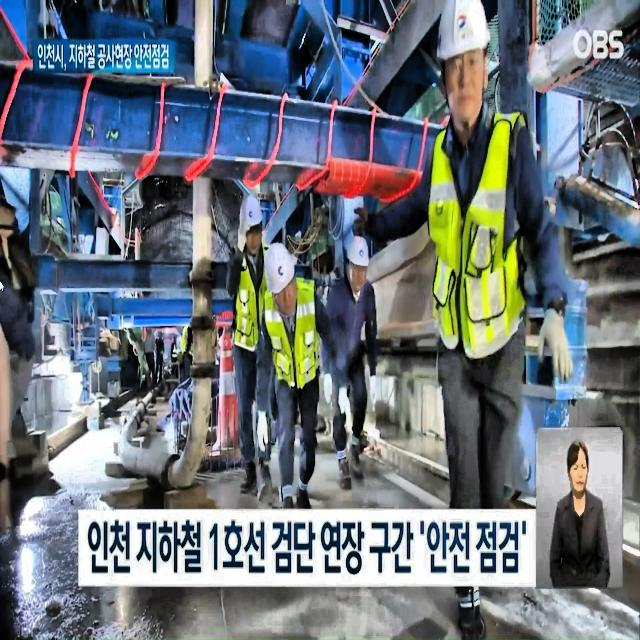safety_helmet: (436, 2, 492, 65), (264, 243, 297, 296), (236, 190, 262, 231), (345, 236, 370, 267)
safety_jacket: (424, 113, 534, 356), (261, 283, 322, 392), (234, 248, 269, 353)
